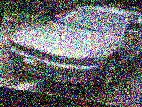car: (3, 0, 142, 100)
